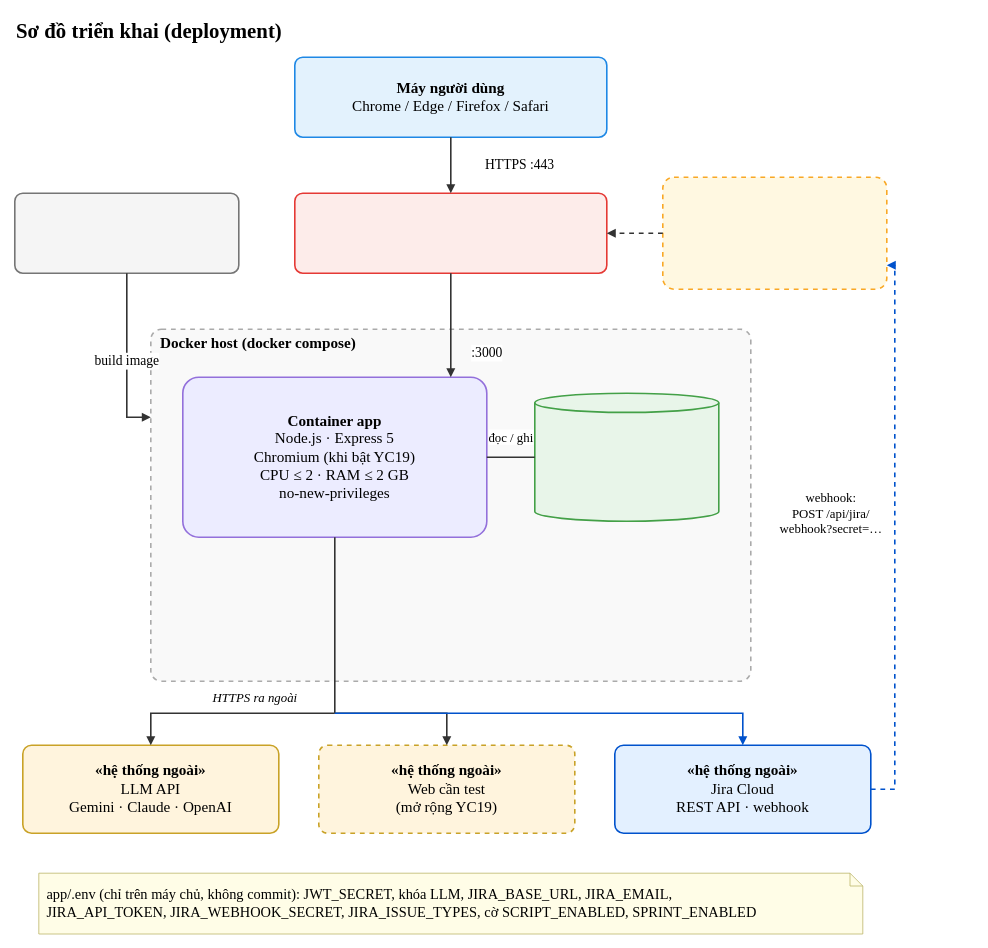
This 988x948 diagram has some shape labels left out. The shapes that lost their labels are listed below. From the top down, each one's centre as x and y in pixels, then its label:
At [126,233]: "GitHub Actions CI test → build image".
At [450,233]: "Reverse proxy Nginx / Caddy, chứng chỉ HTTPS".
At [774,233]: "ngrok (tùy chọn) địa chỉ công khai cho webhook khi chạy trên máy cá nhân".
At [626,457]: "Volume app-data CSDL app.db ảnh chụp lỗi".
